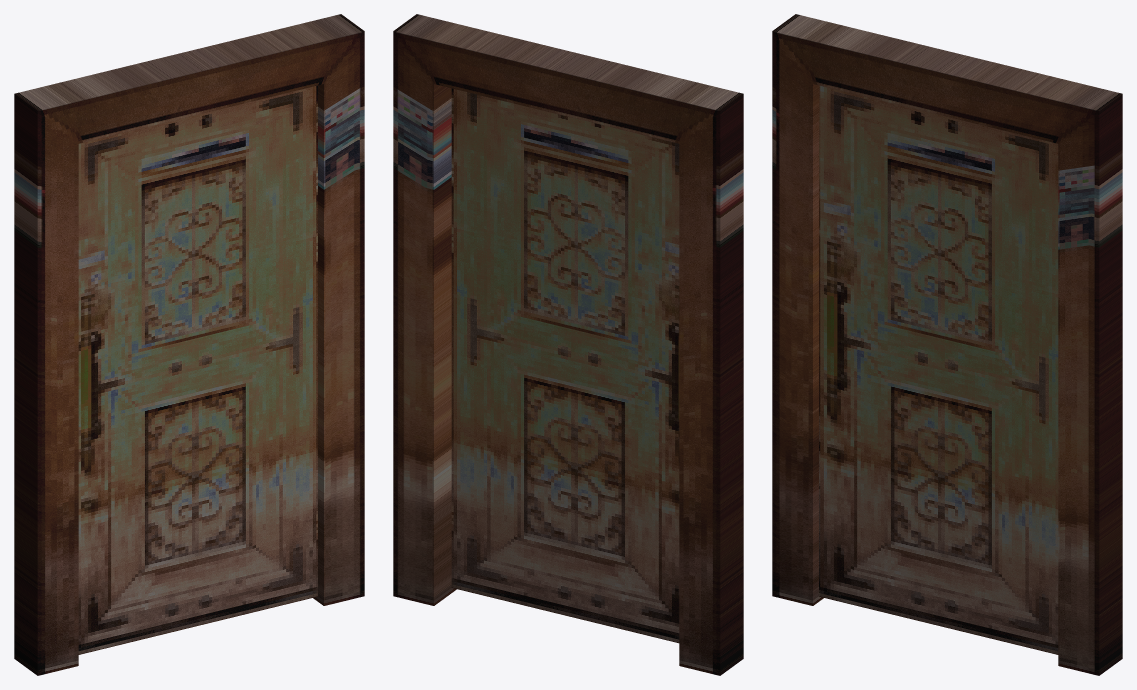
The model's file is door.glb.
The picture shows the model from 3 angles, left to right: view 1: azimuth 30°, elevation 25°; view 2: azimuth 150°, elevation 25°; view 3: azimuth 330°, elevation 25°; orthographic projection.
Visible parts, largest first — view 1: env_door_closed, env_door_frame; view 2: env_door_closed, env_door_frame; view 3: env_door_closed, env_door_frame.
Part boxes in pixels (box(x1,y1,x2,y2)): env_door_closed: box(78, 85, 317, 654); env_door_frame: box(14, 14, 364, 675); env_door_closed: box(451, 88, 679, 643); env_door_frame: box(393, 14, 743, 675); env_door_closed: box(819, 85, 1058, 654); env_door_frame: box(772, 14, 1122, 675).
Size of the model in its own units: 1.6 by 2.64 by 0.2.
2 materials, 2 textured.
